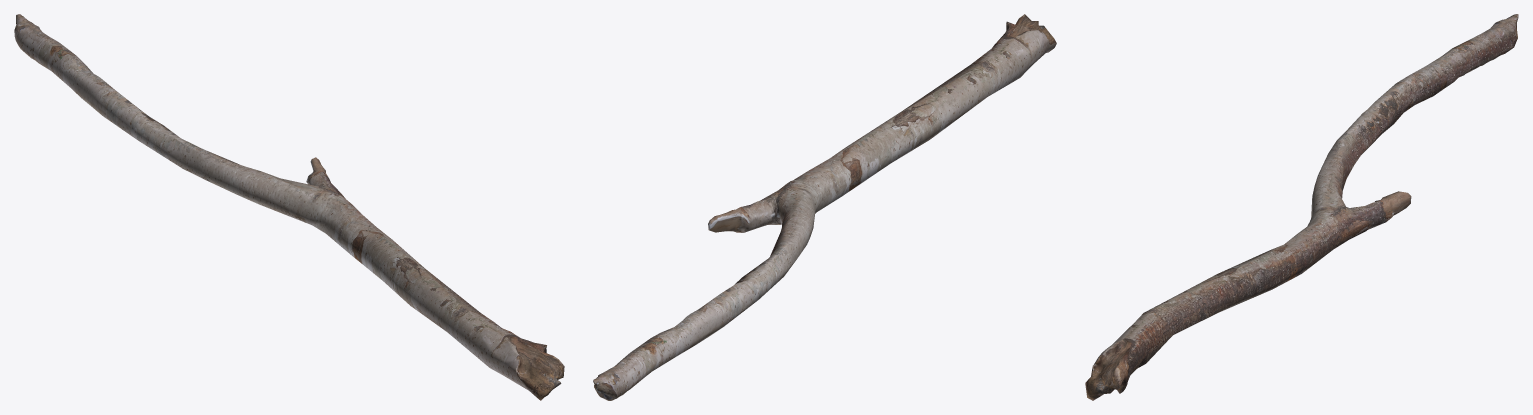
File: sm_Debris_02_01.fbx
3 views of the same model, side by side, from view 1: azimuth 30°, elevation 25°; view 2: azimuth 150°, elevation 25°; view 3: azimuth 330°, elevation 25° (orthographic). The views are drawn at different scales.
Parts seen in each view (by area): view 1: sm_Debris_02_01_LOD0; view 2: sm_Debris_02_01_LOD0; view 3: sm_Debris_02_01_LOD0.
Boxes of the visible parts, bbox=[...] form: sm_Debris_02_01_LOD0: bbox=[14, 14, 564, 400]; sm_Debris_02_01_LOD0: bbox=[593, 14, 1056, 400]; sm_Debris_02_01_LOD0: bbox=[1085, 14, 1518, 400].
Bounding box in the file's own units: 17.92 × 129 × 7.24.
